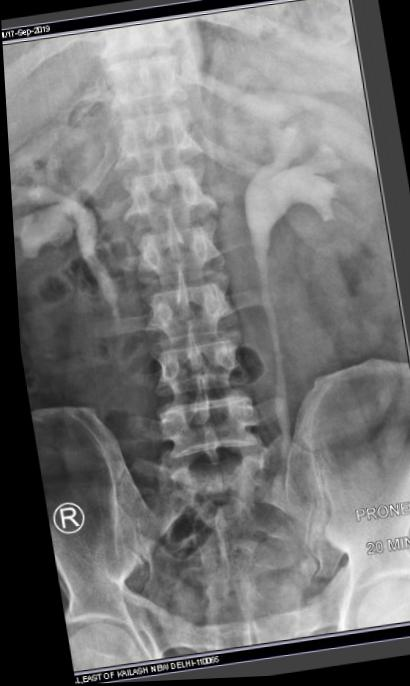bladder: (146, 536, 324, 633)
left kidney: (219, 81, 388, 278)
right kidney: (6, 118, 125, 335)
vertebrae: (112, 163, 216, 231)
